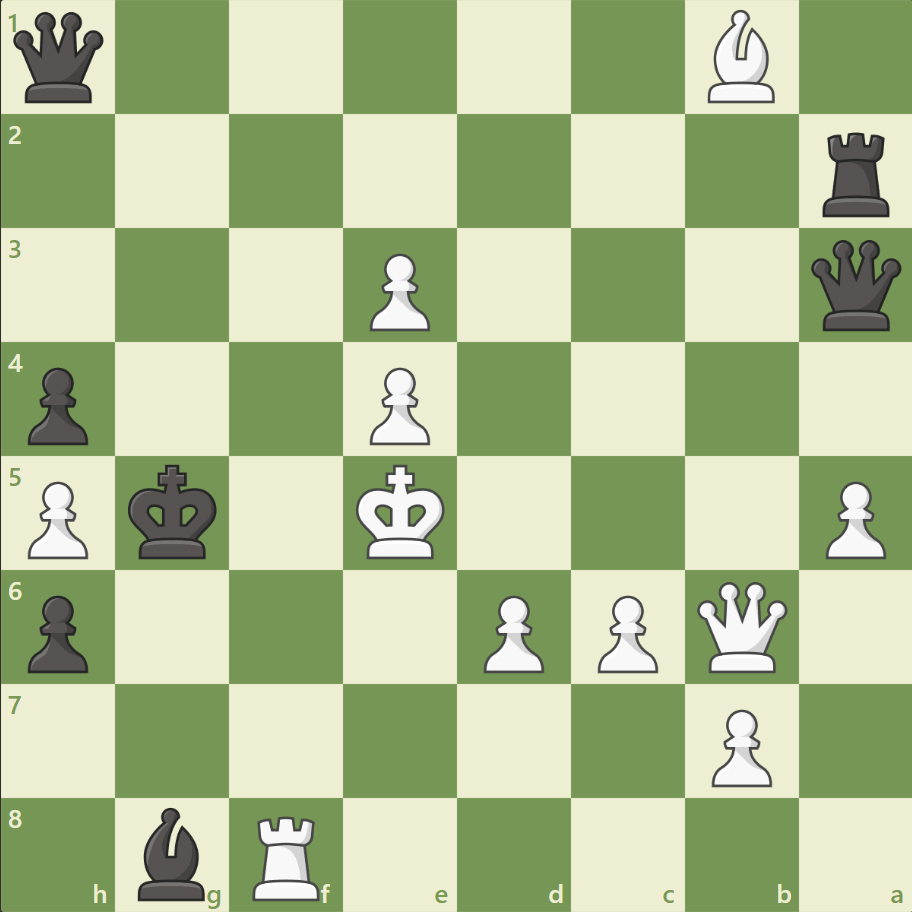B: (698, 6, 782, 109)
K: (351, 458, 451, 566)
P: (701, 700, 776, 791), (474, 586, 549, 677), (20, 473, 95, 564), (588, 586, 662, 677), (815, 473, 889, 564), (361, 359, 435, 450), (361, 246, 435, 337)
Q: (691, 576, 790, 676)
R: (246, 806, 329, 904)
b: (131, 801, 215, 904)
k: (124, 458, 224, 566)
p: (20, 586, 95, 677), (20, 359, 95, 450)
q: (805, 236, 904, 335), (10, 9, 109, 108)
r: (814, 125, 897, 222)
